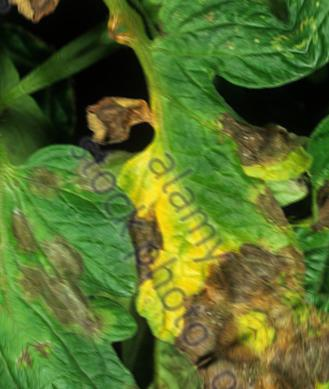Tomato leaf late blight: (7, 0, 329, 379), (0, 96, 224, 389)
